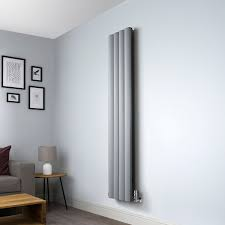Radiator: (105, 24, 144, 206)
